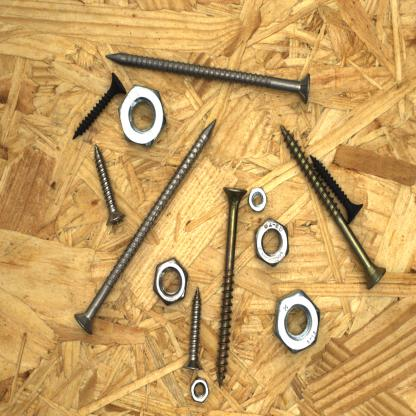screw: (72, 115, 219, 336), (278, 121, 388, 292), (103, 50, 313, 107), (214, 184, 248, 387), (308, 152, 366, 230), (70, 69, 129, 145), (92, 140, 128, 230), (183, 286, 204, 376)
